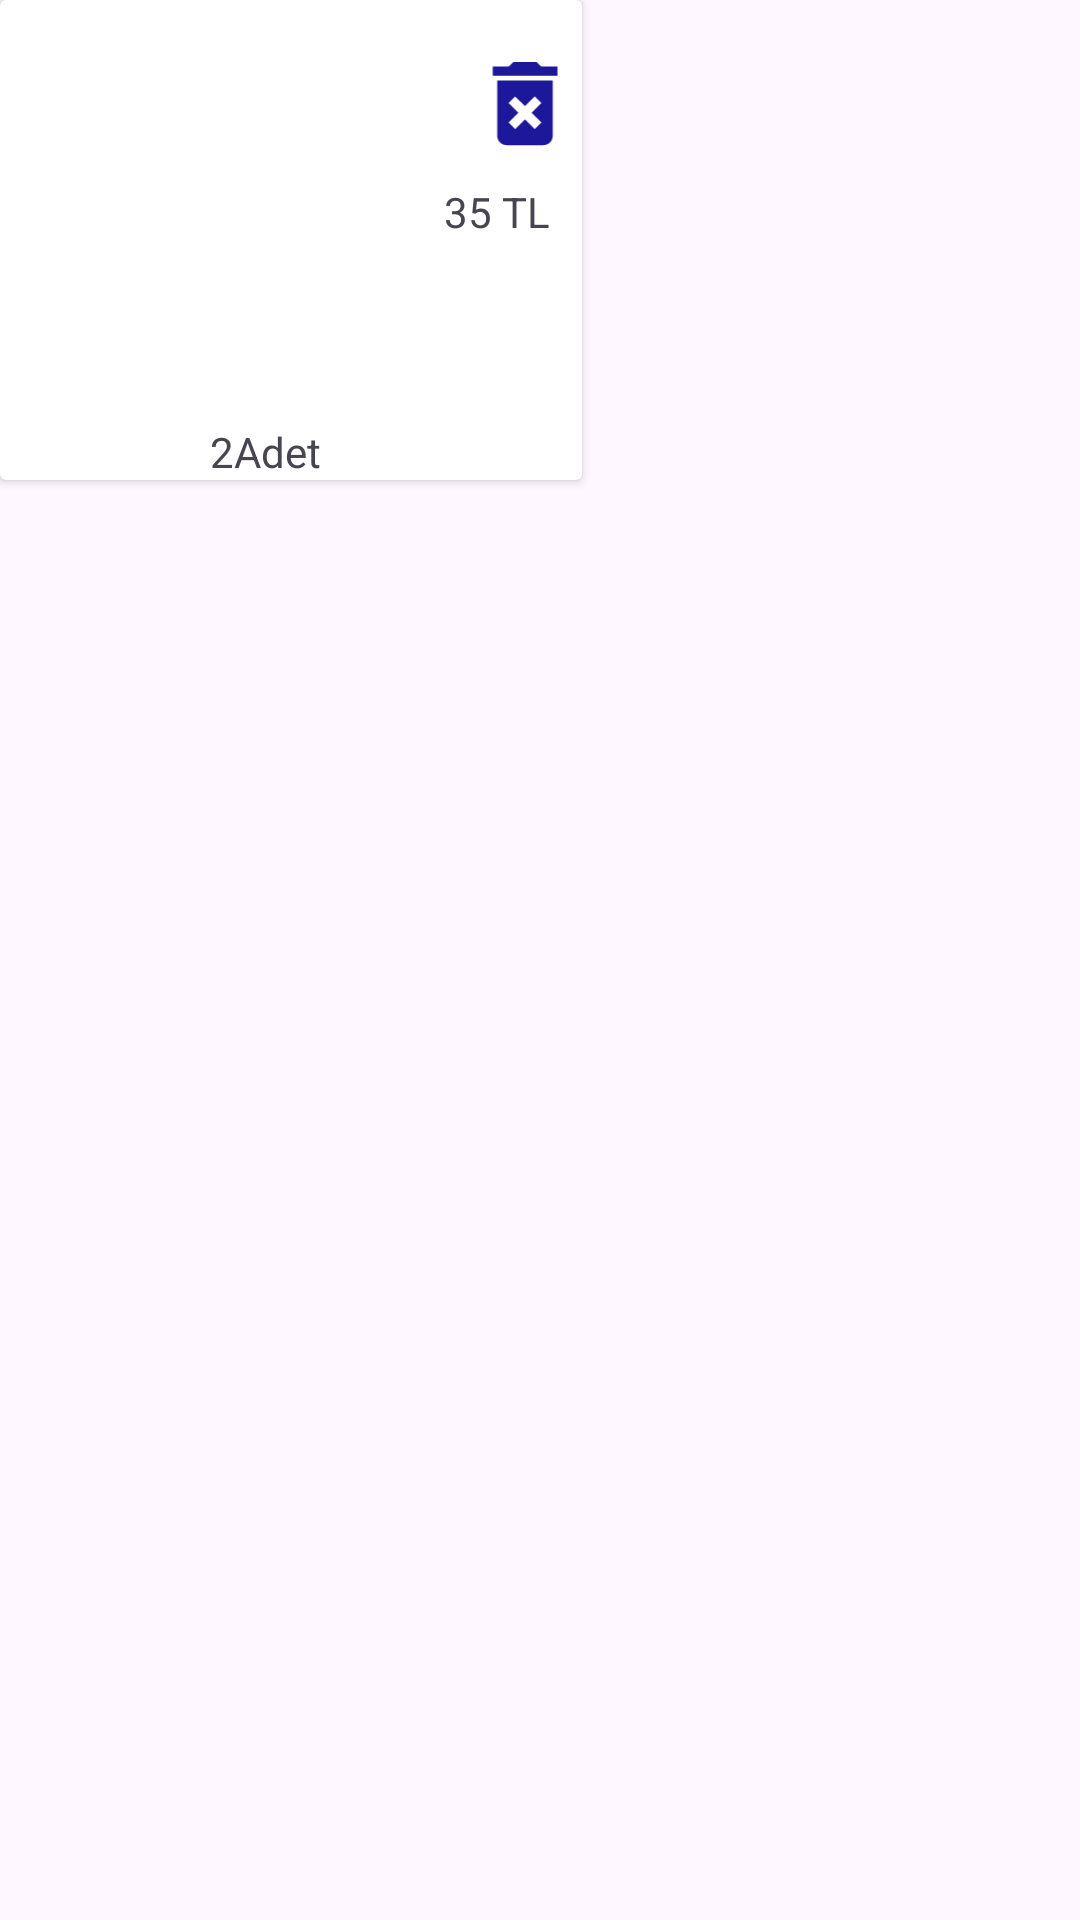

Locate icon controls on the screen. Image size 1080 × 1920, boxes as (x1, y1, x2, y2).
delete: (492, 62, 558, 146)
